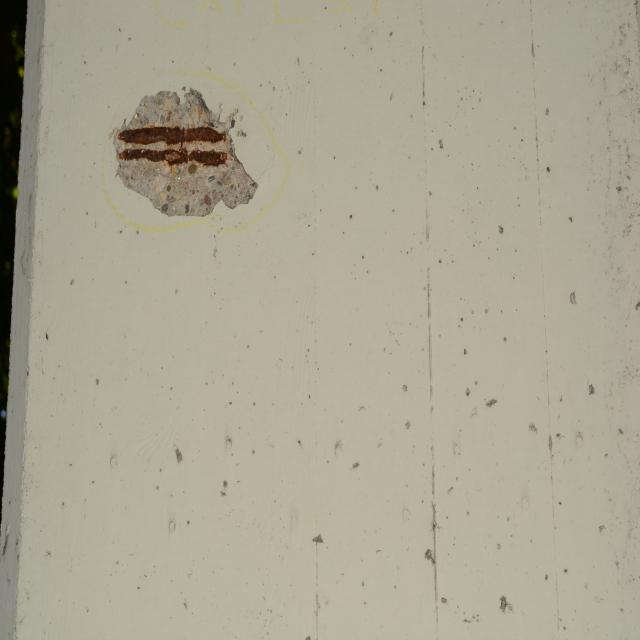corrosion: (112, 118, 231, 175)
